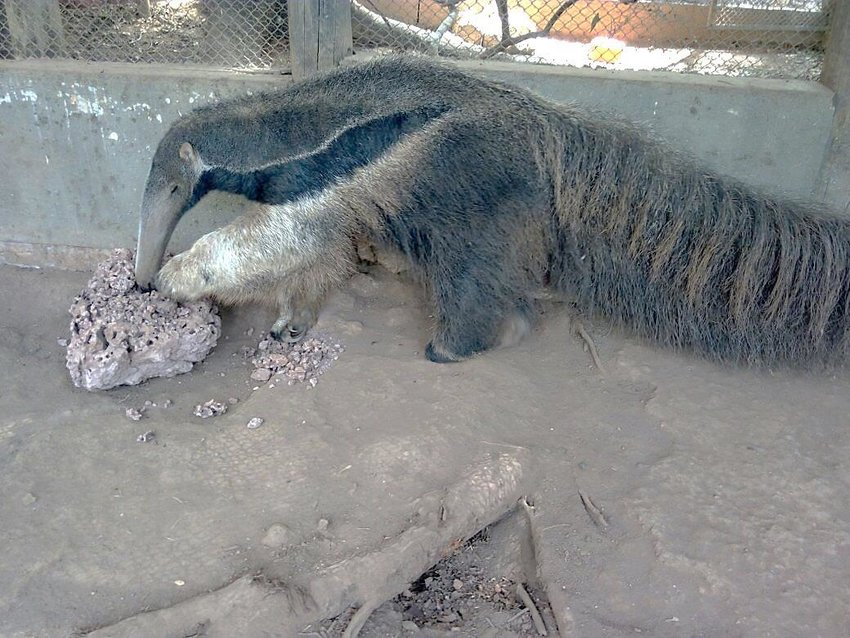TamanduaBandeira: (121, 51, 838, 379)
